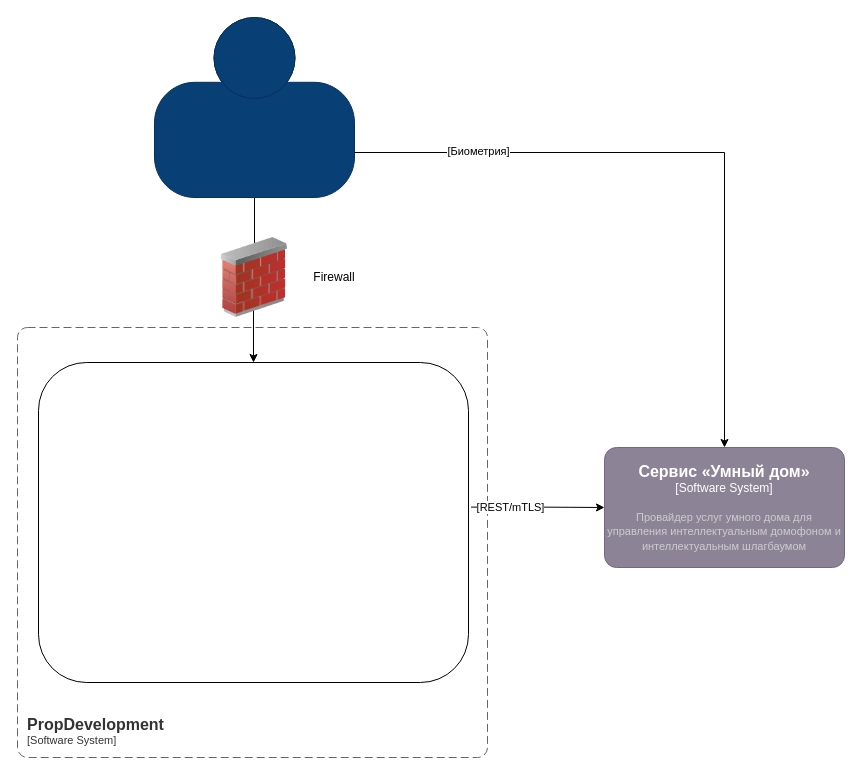
Some shapes in this 862 by 775 pixel diagram are drawn without their labels. Each missing label, with the box of its shape:
Группа сервисов ЖКУ: (38, 362, 468, 682)
Собственник [Person] Клиент: (154, 16, 354, 198)
